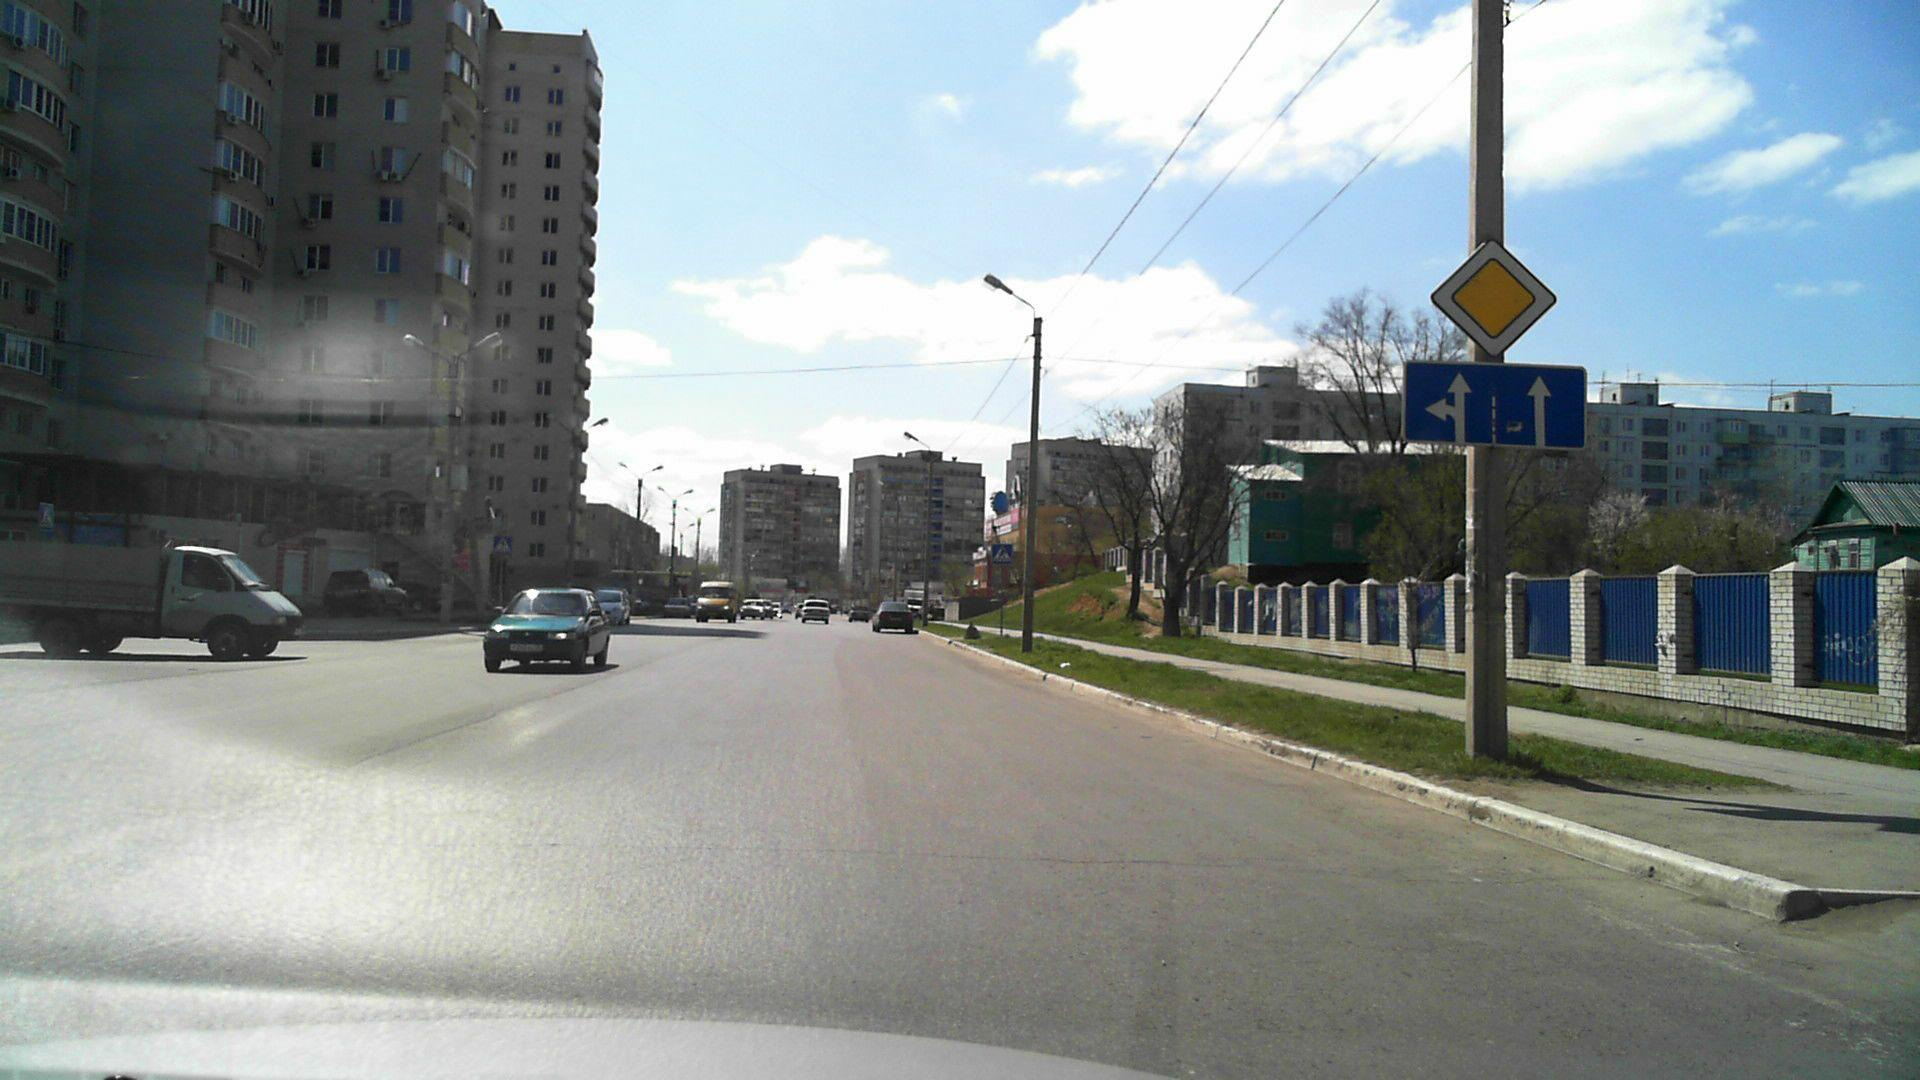2_1: (1428, 236, 1556, 353)
5_15_1: (1402, 359, 1588, 452)
5_19_1: (993, 542, 1014, 564)
5_19_2: (495, 534, 514, 556)
